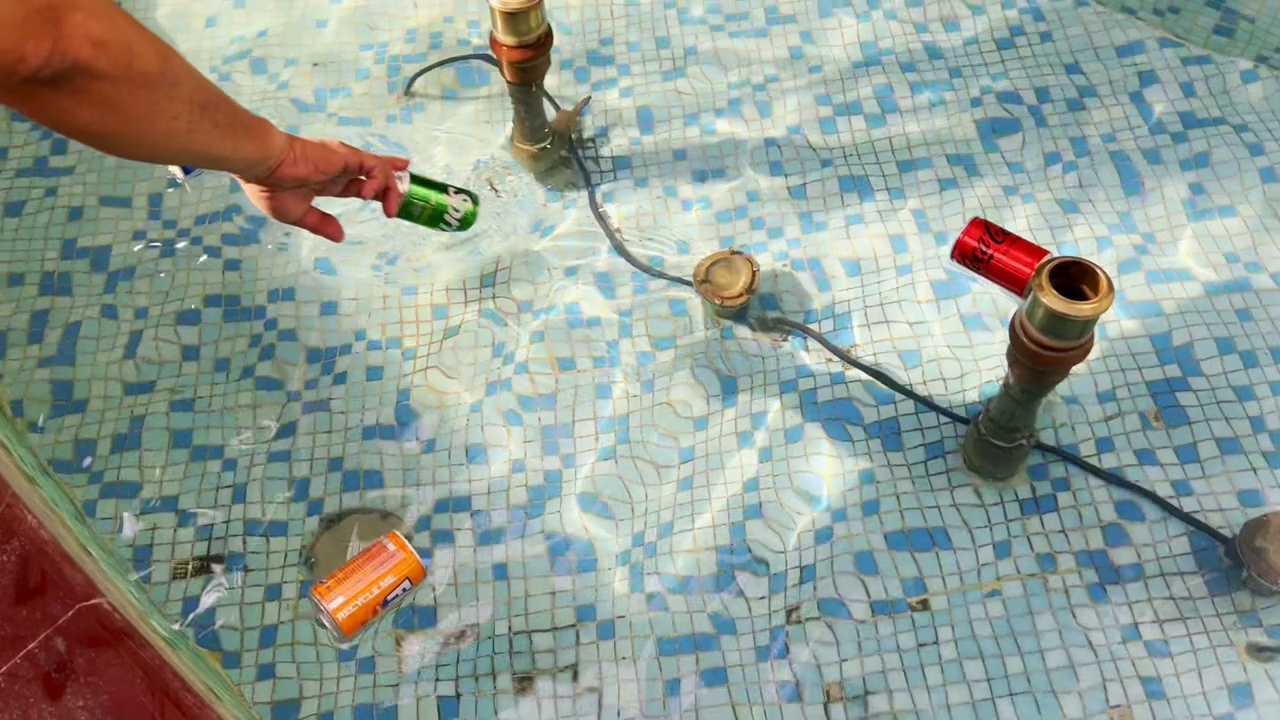debris: (298, 517, 433, 644), (944, 198, 1059, 300), (383, 163, 484, 242)
